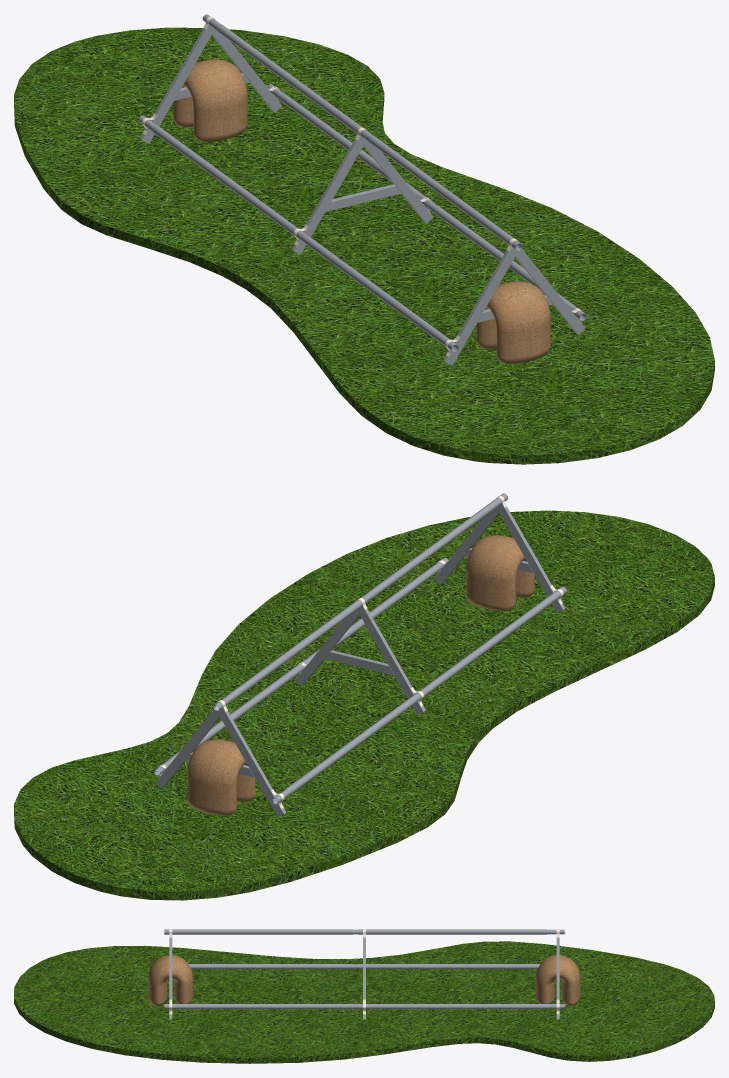
The model's file is berm.min.glb.
3 views of the same model, one above another, from view 1: azimuth 30°, elevation 25°; view 2: azimuth 150°, elevation 25°; view 3: azimuth 270°, elevation 25° (orthographic). The views are drawn at different scales.
Parts seen in each view (by area): view 1: component_0045, component_0043, component_0044, component_0032, component_0026, component_0035, component_0029, component_0019, component_0003, component_0011, component_0038, component_0041 (+4 smaller); view 2: component_0045, component_0044, component_0043, component_0026, component_0032, component_0035, component_0029, component_0003, component_0019, component_0011, component_0038, component_0041 (+4 smaller); view 3: component_0045, component_0044, component_0043, component_0032, component_0038, component_0035, component_0041, component_0026, component_0029, component_0007, component_0023.
Boxes of the visible parts, <box> form: component_0045: <box>14,27,714,464</box>; component_0043: <box>173,59,247,142</box>; component_0044: <box>476,281,550,363</box>; component_0032: <box>202,14,370,139</box>; component_0026: <box>138,115,306,240</box>; component_0035: <box>364,132,522,251</box>; component_0029: <box>300,234,458,352</box>; component_0019: <box>443,247,515,365</box>; component_0003: <box>140,25,212,143</box>; component_0011: <box>291,136,363,254</box>; component_0038: <box>267,84,434,209</box>; component_0041: <box>428,202,586,320</box>; component_0045: <box>14,510,714,900</box>; component_0044: <box>466,535,534,611</box>; component_0043: <box>187,739,255,815</box>; component_0026: <box>272,688,427,804</box>; component_0032: <box>213,595,368,711</box>; component_0035: <box>364,493,507,600</box>; component_0029: <box>423,586,566,693</box>; component_0003: <box>219,708,285,816</box>; component_0019: <box>498,503,564,612</box>; component_0011: <box>359,606,425,714</box>; component_0038: <box>154,660,308,775</box>; component_0041: <box>305,558,448,662</box>; component_0045: <box>14,941,714,1063</box>; component_0044: <box>148,955,193,1006</box>; component_0043: <box>535,955,580,1006</box>; component_0032: <box>358,929,564,934</box>; component_0038: <box>358,1004,564,1009</box>; component_0035: <box>164,929,357,934</box>; component_0041: <box>164,1004,357,1009</box>; component_0026: <box>358,964,540,969</box>; component_0029: <box>188,964,357,969</box>; component_0007: <box>556,937,559,1019</box>; component_0023: <box>169,937,172,1019</box>.
Size of the model in its own units: 2.14 by 0.6509 by 5.43.
7 materials, 2 textured.
